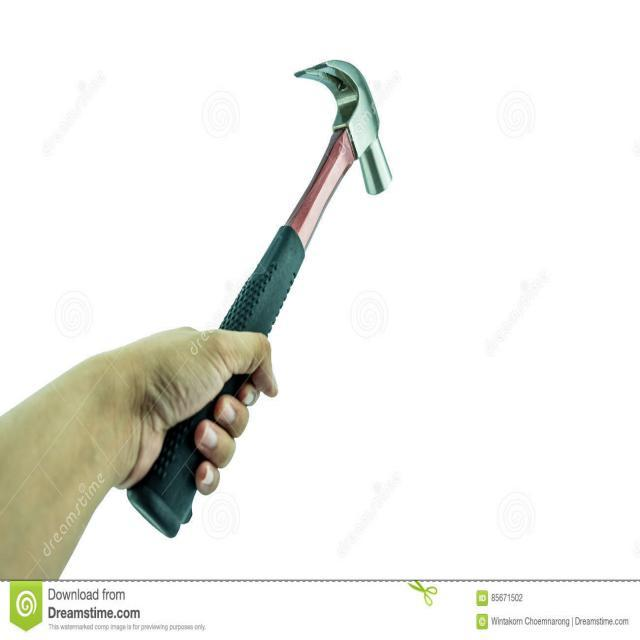hammer: (118, 54, 396, 544)
